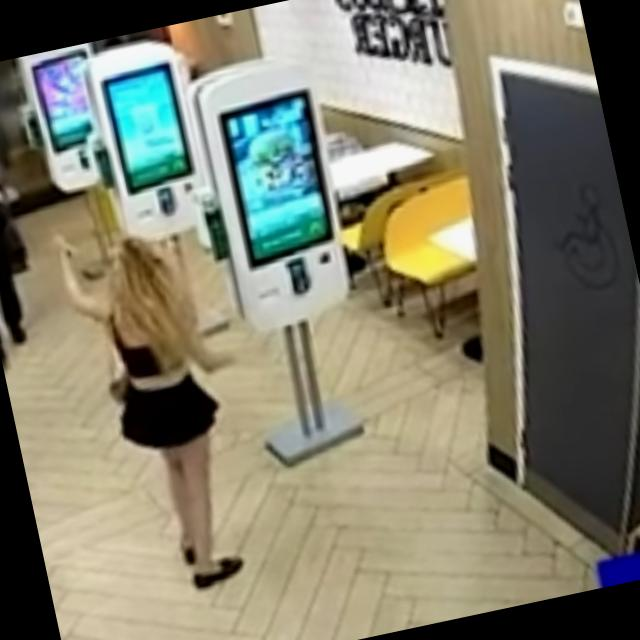person: (51, 208, 278, 602), (0, 177, 51, 364)
